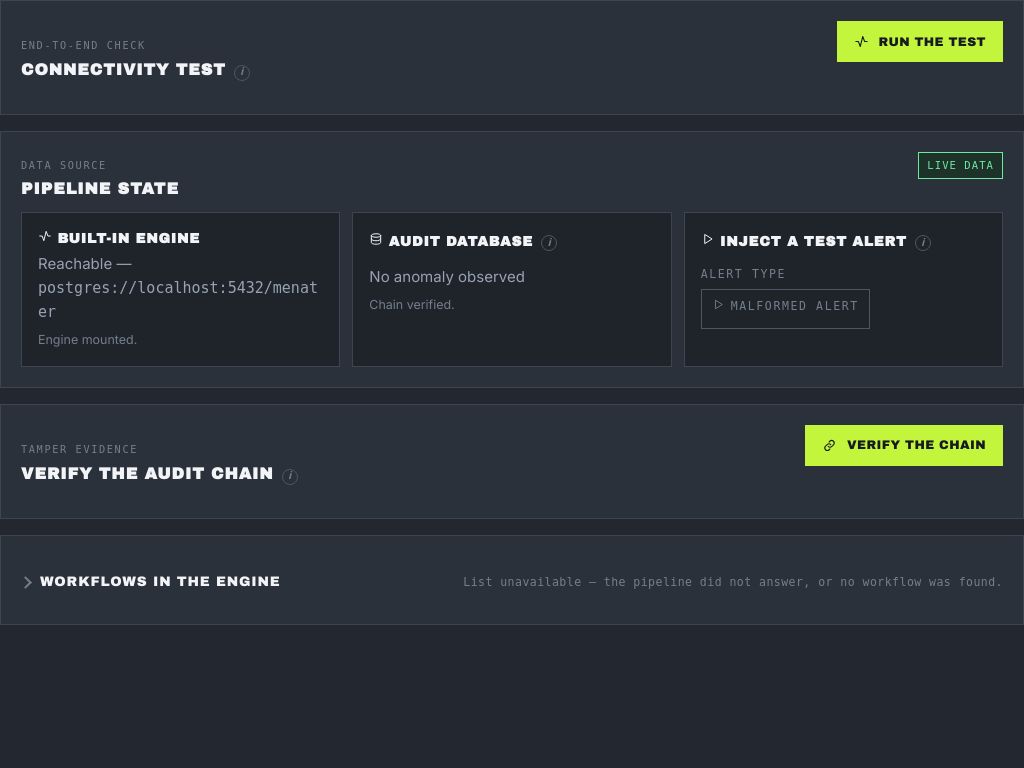
Test case: a sentence produced by a button lands in a live region › Health — the injection verdict
Expected: the text "Malformed alert" is shown, [731,299,859,313]
Click the button "Malformed alert" at (785, 309), box [701,289,870,329]
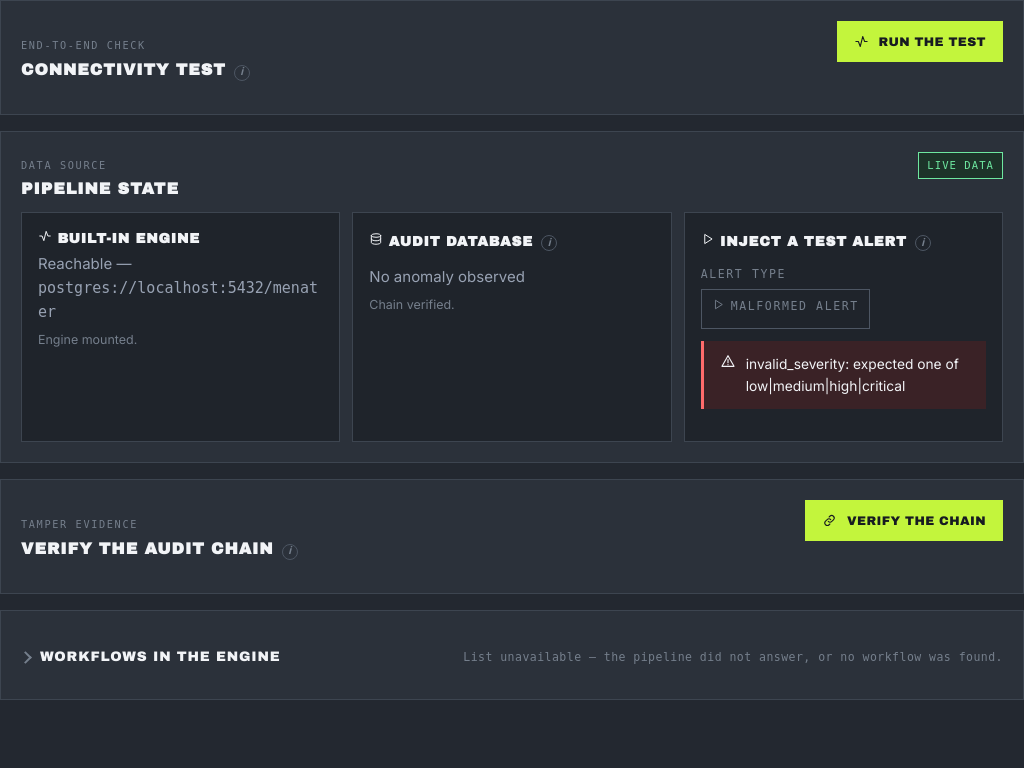
Expected: the message "invalid_severity: expected one of low|medium|high|critical" is shown, [701,341,986,409]
